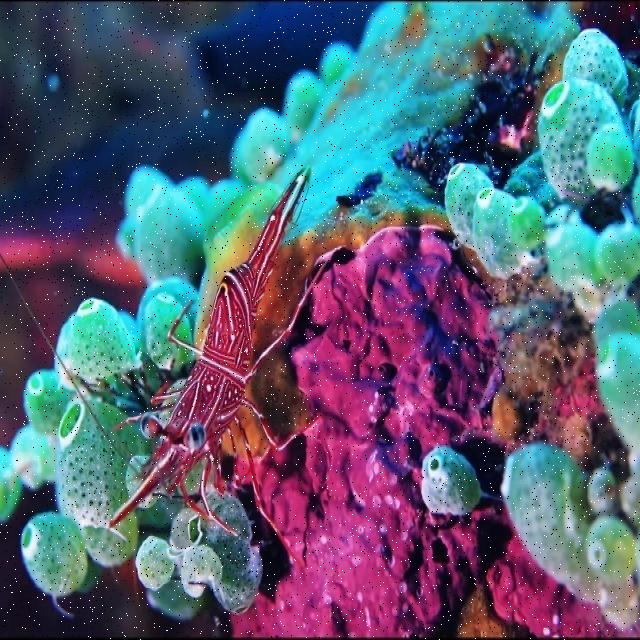reefs: (0, 0, 582, 617), (0, 169, 326, 555), (445, 27, 639, 525), (501, 443, 639, 630), (421, 446, 481, 517)
